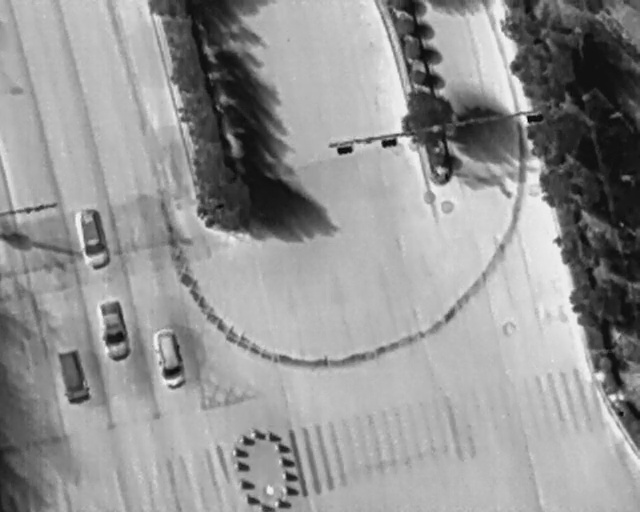Car: (149, 324, 190, 392), (72, 205, 113, 271), (94, 298, 132, 362), (55, 347, 93, 407)
